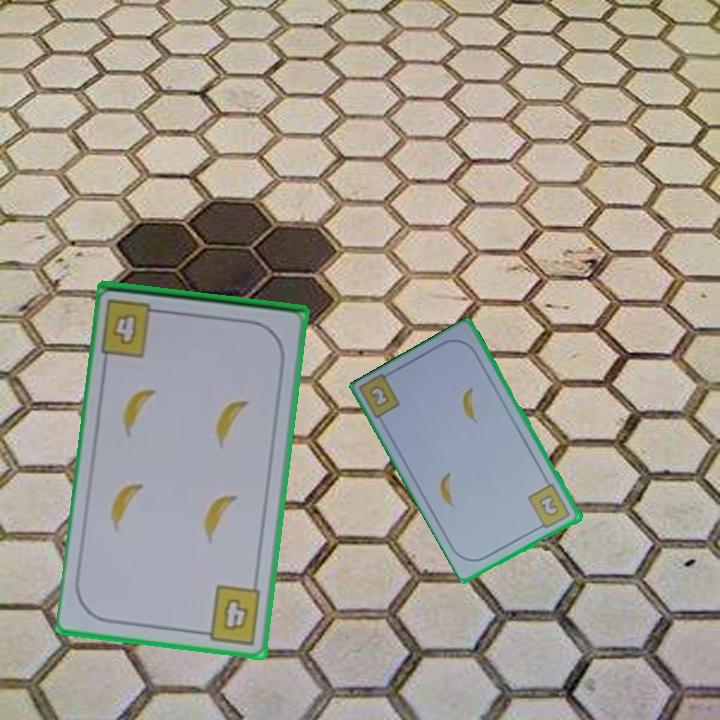2b: (525, 480, 573, 532), (368, 384, 390, 408)
4b: (98, 295, 168, 360), (196, 582, 264, 648)
